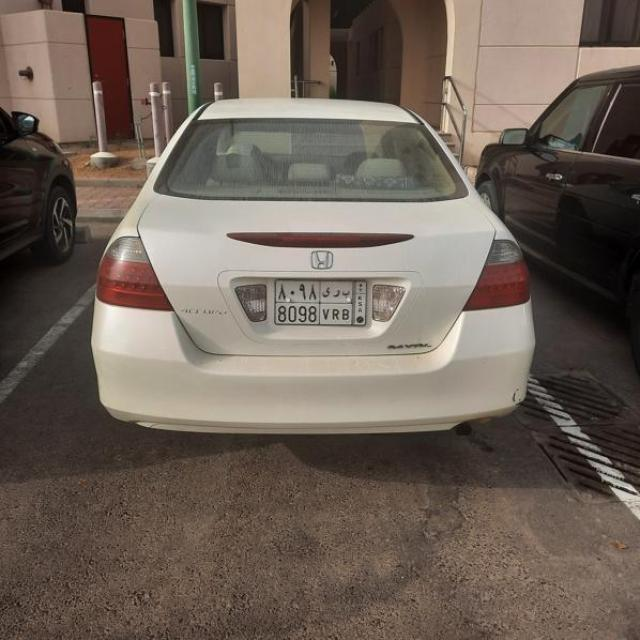license_plate: (275, 278, 368, 327)
